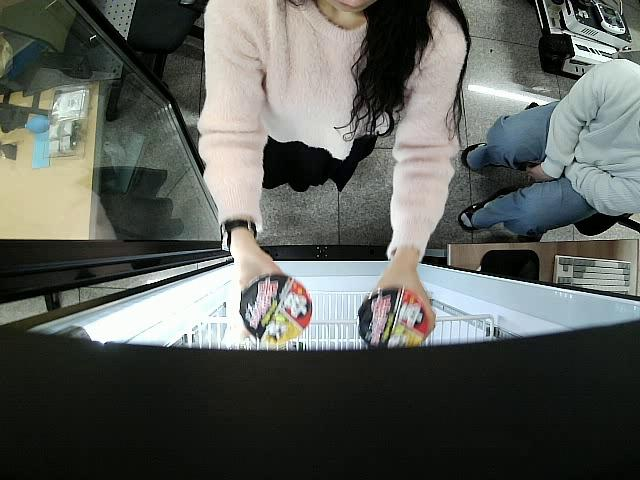00_hand: (372, 251, 438, 341), (237, 253, 282, 293)
08_buldak_S: (240, 273, 311, 341), (359, 284, 429, 349)
